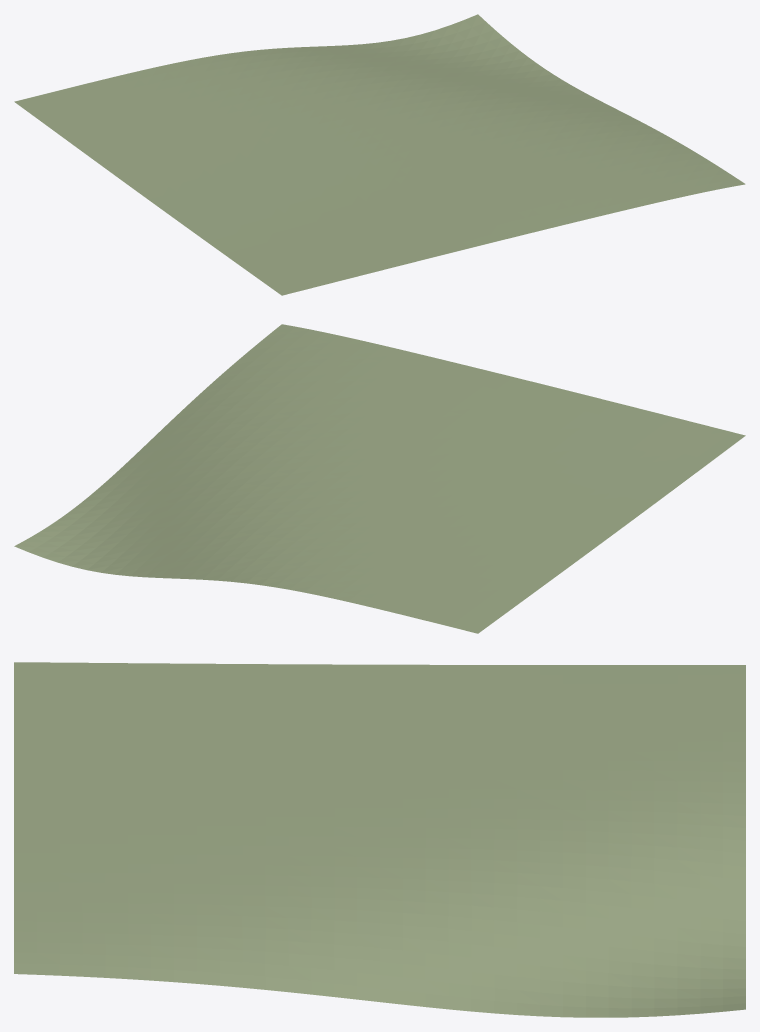
Rendered from desert-12-0.glb.
3 views of the same model, one above another, from view 1: azimuth 30°, elevation 25°; view 2: azimuth 150°, elevation 25°; view 3: azimuth 270°, elevation 25° (orthographic). The views are drawn at different scales.
Visible parts, largest first — view 1: desert-12-0; view 2: desert-12-0; view 3: desert-12-0.
Boxes of the visible parts, x1,y1,x2,y2 form: desert-12-0: [14, 14, 745, 295]; desert-12-0: [14, 324, 745, 633]; desert-12-0: [14, 662, 745, 1017].
Size of the model in its own units: 512 by 37.97 by 512.
